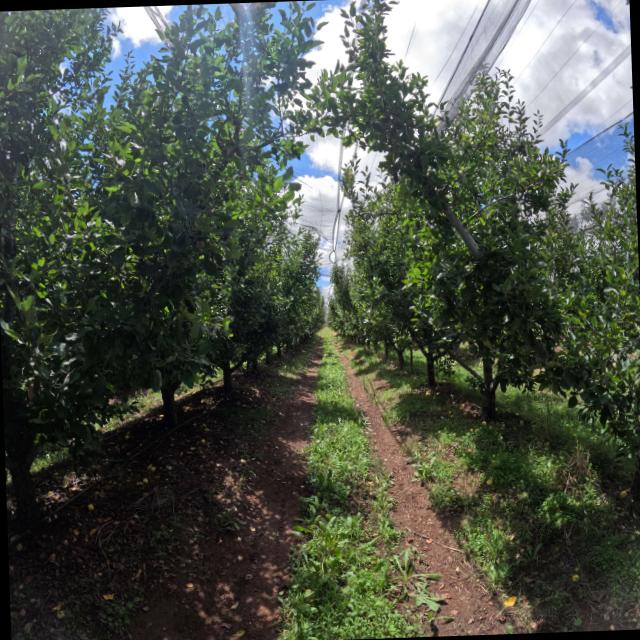-FireBlight-: (193, 238, 207, 249)
